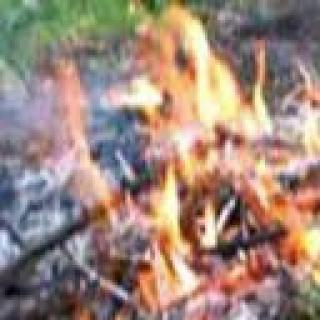fire: (54, 17, 320, 300)
